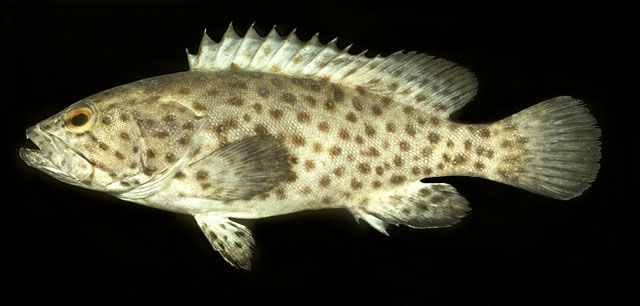fish: (20, 22, 603, 272)
